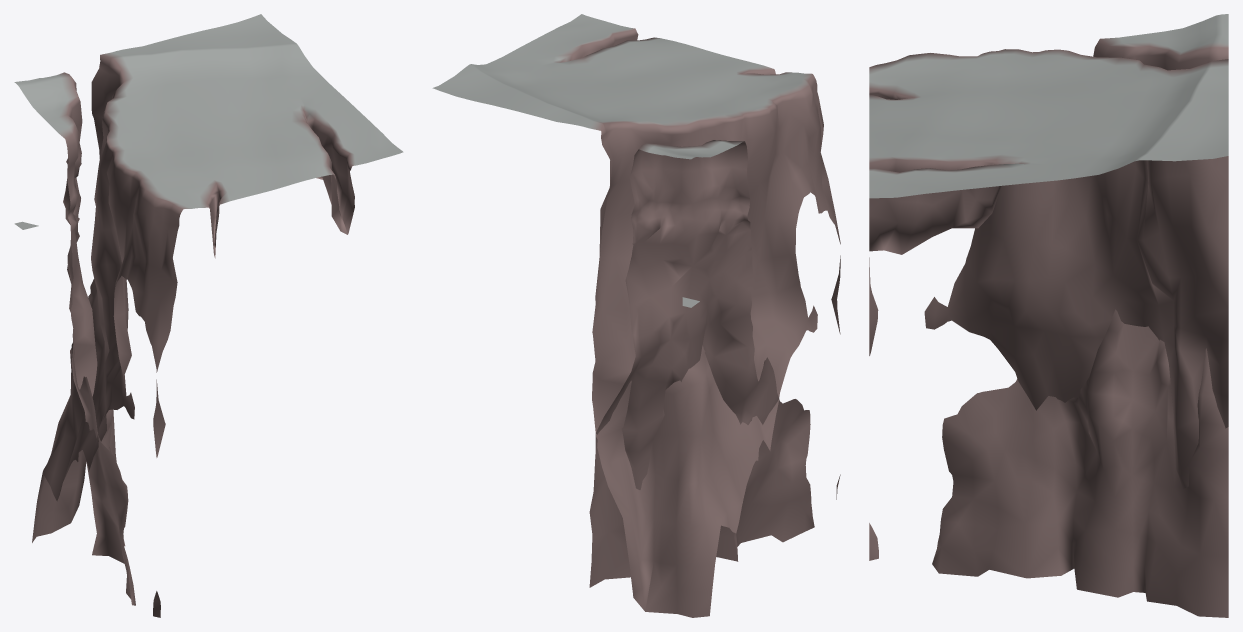
3 views of the same model, side by side, from view 1: azimuth 30°, elevation 25°; view 2: azimuth 150°, elevation 25°; view 3: azimuth 270°, elevation 25° (orthographic). The views are drawn at different scales.
Parts seen in each view (by area): view 1: G:\FFXIV-MapTools\exports\u5f1\bg\ex4\04_uvs_u5\fld\u5f1\bgp (×11); view 2: G:\FFXIV-MapTools\exports\u5f1\bg\ex4\04_uvs_u5\fld\u5f1\bgp (×10); view 3: G:\FFXIV-MapTools\exports\u5f1\bg\ex4\04_uvs_u5\fld\u5f1\bgp (×11).
Boxes of the visible parts, bbox=[...] form: G:\FFXIV-MapTools\exports\u5f1\bg\ex4\04_uvs_u5\fld\u5f1\bgp (×11): bbox=[14, 14, 403, 617]; G:\FFXIV-MapTools\exports\u5f1\bg\ex4\04_uvs_u5\fld\u5f1\bgp (×10): bbox=[432, 14, 840, 617]; G:\FFXIV-MapTools\exports\u5f1\bg\ex4\04_uvs_u5\fld\u5f1\bgp (×11): bbox=[869, 14, 1228, 617].
Bounding box in the file's own units: 128 × 226 × 128.
